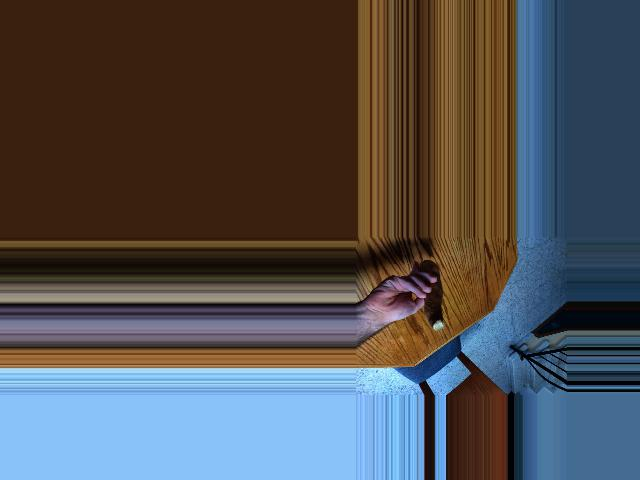sweet_potato: (421, 260, 443, 336)
